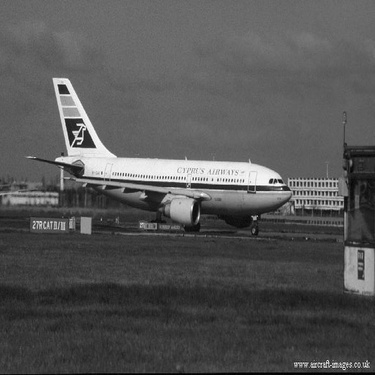airplane: (17, 68, 298, 243)
